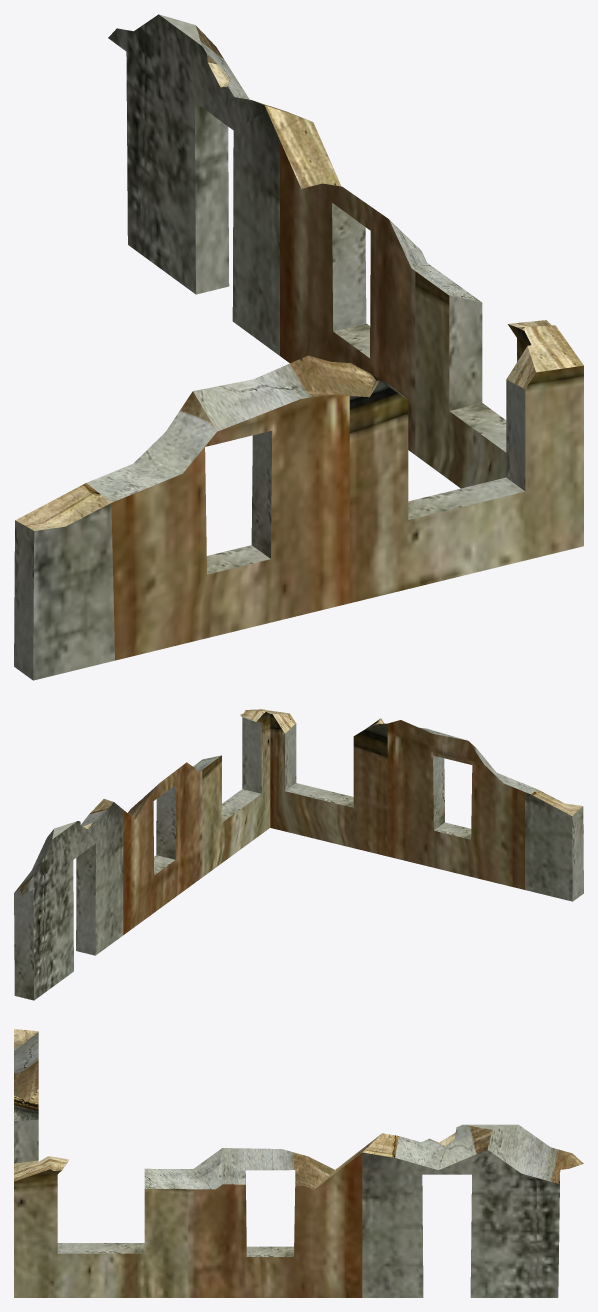
Rendered from wall-breach.glb.
3 renders of one model, top to bottom at view 1: azimuth 30°, elevation 25°; view 2: azimuth 150°, elevation 25°; view 3: azimuth 270°, elevation 25°, orthographic. The views are drawn at different scales.
Parts seen in each view (by area): view 1: wall-breach; view 2: wall-breach; view 3: wall-breach.
Boxes of the visible parts, x1=… form: wall-breach: x1=14, y1=14, x2=583, y2=680; wall-breach: x1=14, y1=709, x2=583, y2=1000; wall-breach: x1=14, y1=1029, x2=583, y2=1297.
Bounding box in the file's own units: 9.4 × 4.12 × 13.09.
1 material, 1 textured.
